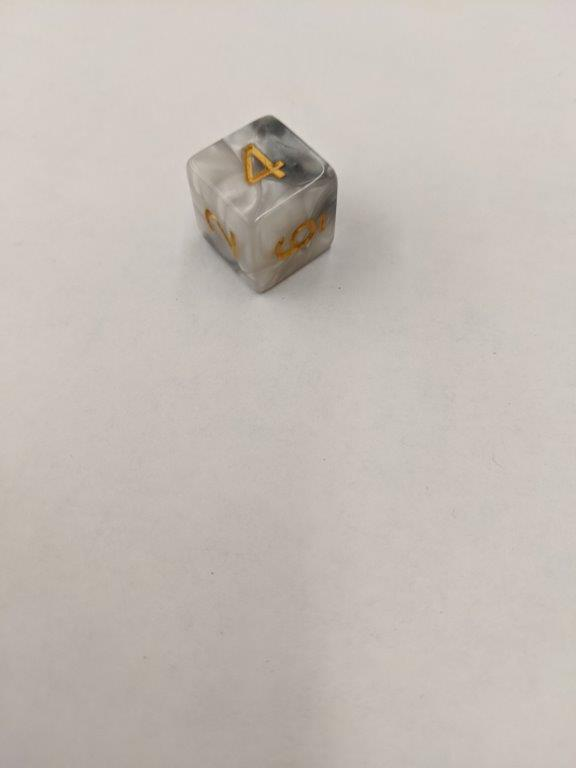d6-4: (187, 111, 340, 292)
